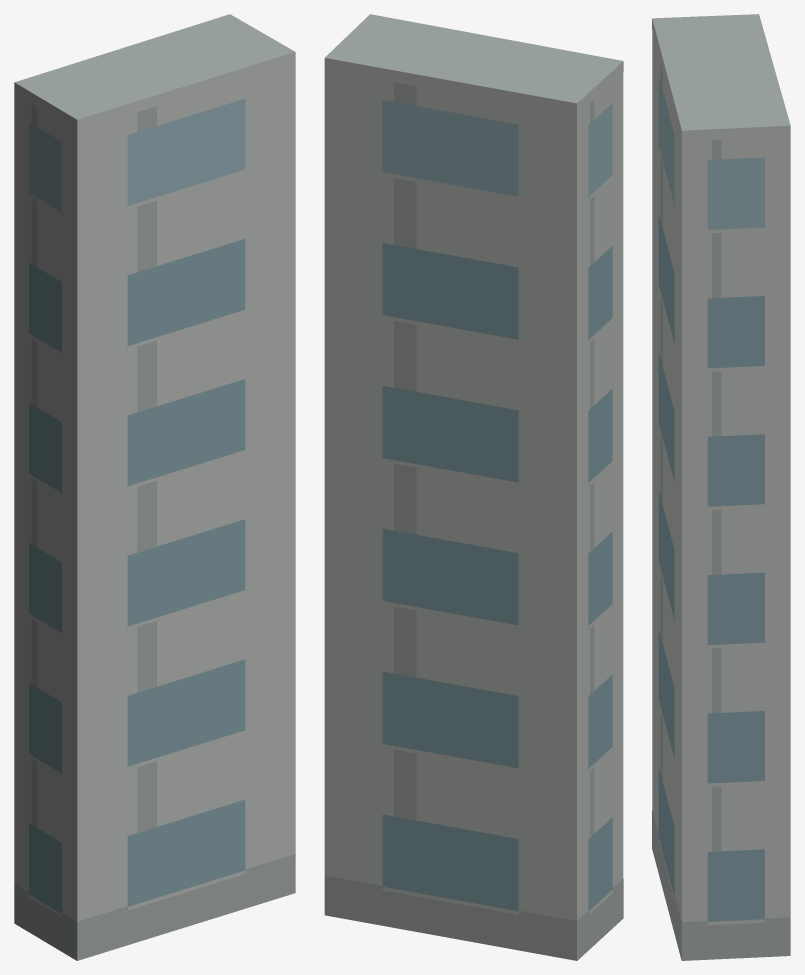
File: survey-upis-32835018.glb
3 views of the same model, side by side, from view 1: azimuth 30°, elevation 25°; view 2: azimuth 150°, elevation 25°; view 3: azimuth 270°, elevation 25° (orthographic). The views are drawn at different scales.
Parts seen in each view (by area): view 1: survey-upis-32835018.tmp; view 2: survey-upis-32835018.tmp; view 3: survey-upis-32835018.tmp.
Part boxes in pixels (x1=…): survey-upis-32835018.tmp: x1=14, y1=14, x2=295, y2=960; survey-upis-32835018.tmp: x1=324, y1=14, x2=623, y2=960; survey-upis-32835018.tmp: x1=652, y1=14, x2=790, y2=960.
Size of the model in its own units: 5.52 by 18.3 by 2.78.
